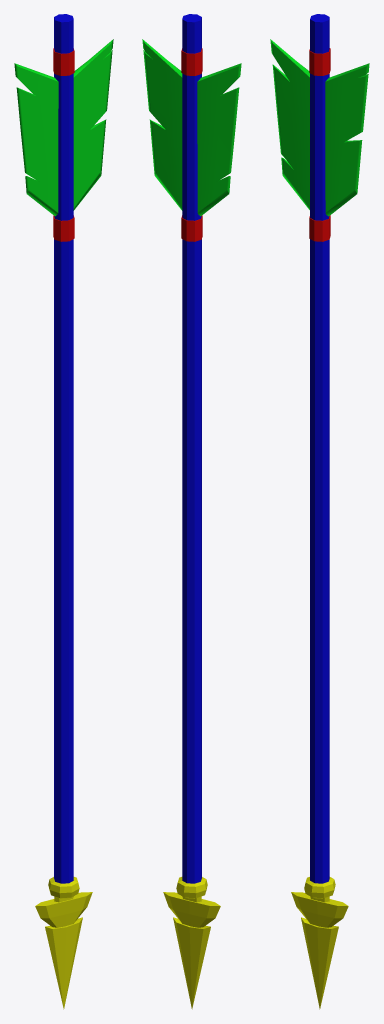
File: 315_arrow_MD.fbx
The picture shows the model from 3 angles, left to right: view 1: azimuth 30°, elevation 25°; view 2: azimuth 150°, elevation 25°; view 3: azimuth 330°, elevation 25°; orthographic projection.
Visible parts, largest first — view 1: Cylinder001; view 2: Cylinder001; view 3: Cylinder001.
Part boxes in pixels (<box>): Cylinder001: <box>14,14,113,1009</box>; Cylinder001: <box>142,14,241,1009</box>; Cylinder001: <box>270,14,369,1009</box>.
Size of the model in its own units: 4.53 by 43.31 by 1.29.
